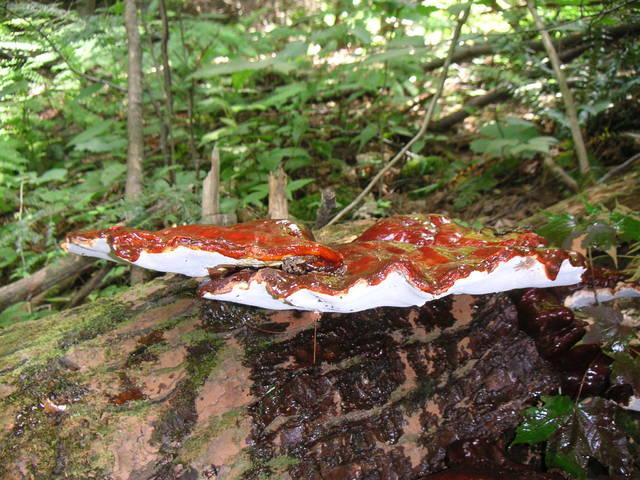poisonous_mushroom: (59, 211, 589, 314)
